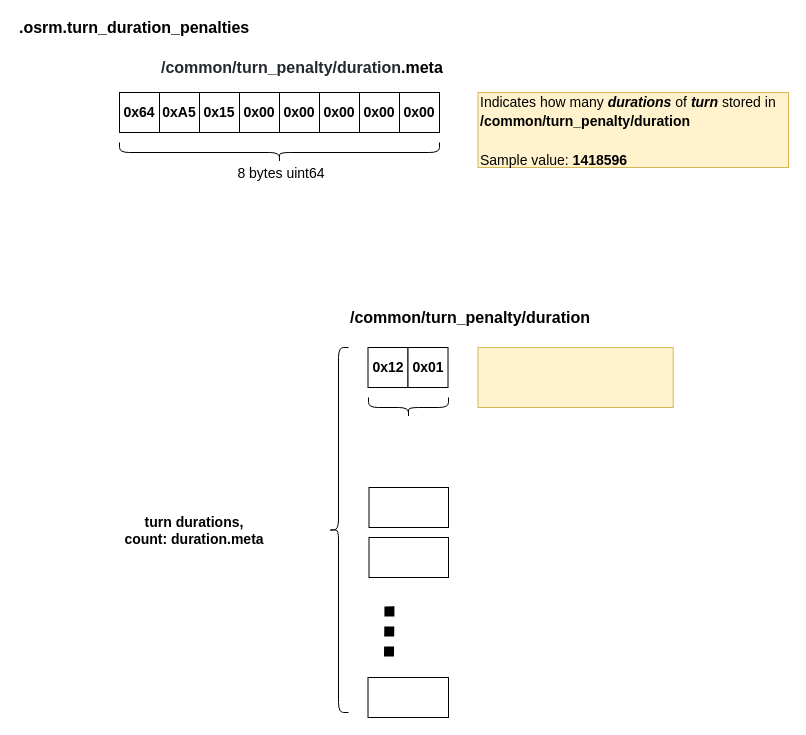
This 806x735 diagram has some shape labels left out. The centre of each missing label's shape, as x and y in pixels:
"2 bytes int16 duration" belongs at (408,407).
"Sample value: 274 unit: 100ms" belongs at (575,377).
